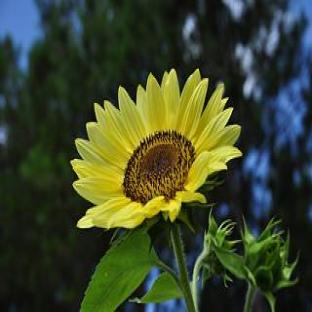sunflower: (70, 69, 243, 312)
